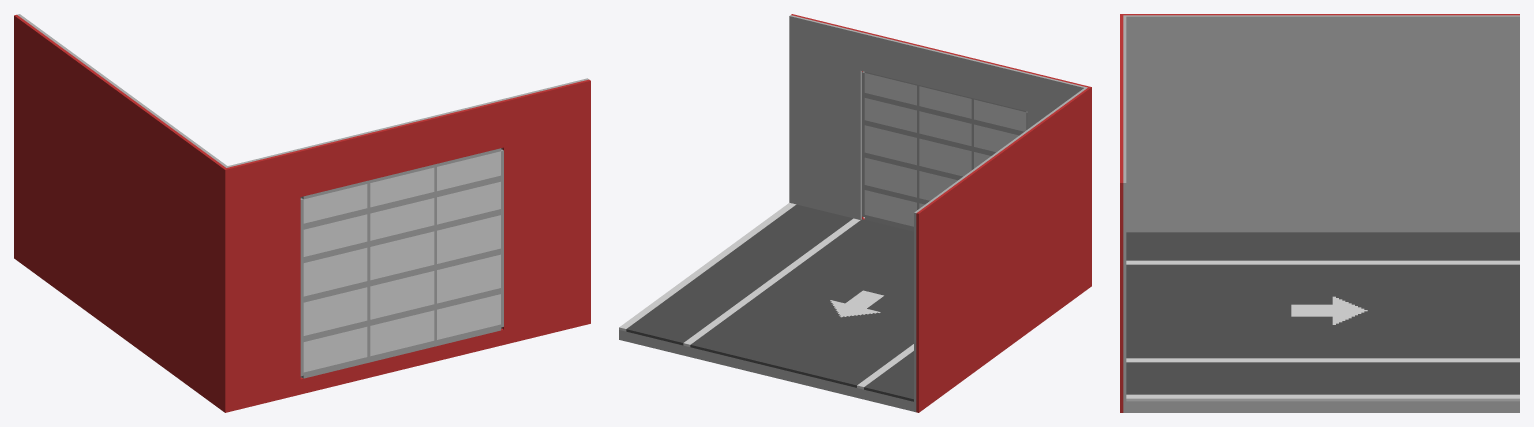
The model's file is 4x2 first-1.obj.
3 views of the same model, side by side, from view 1: azimuth 30°, elevation 25°; view 2: azimuth 150°, elevation 25°; view 3: azimuth 270°, elevation 25° (orthographic). The views are drawn at different scales.
Parts seen in each view (by area): view 1: 4x2 first-1; view 2: 4x2 first-1; view 3: 4x2 first-1.
Part boxes in pixels (x1,y1,x2,y2): 4x2 first-1: [14, 14, 590, 412]; 4x2 first-1: [619, 14, 1091, 412]; 4x2 first-1: [1120, 14, 1519, 412].
Bounding box in the file's own units: 126 × 80 × 126.
1 material, 1 textured.
